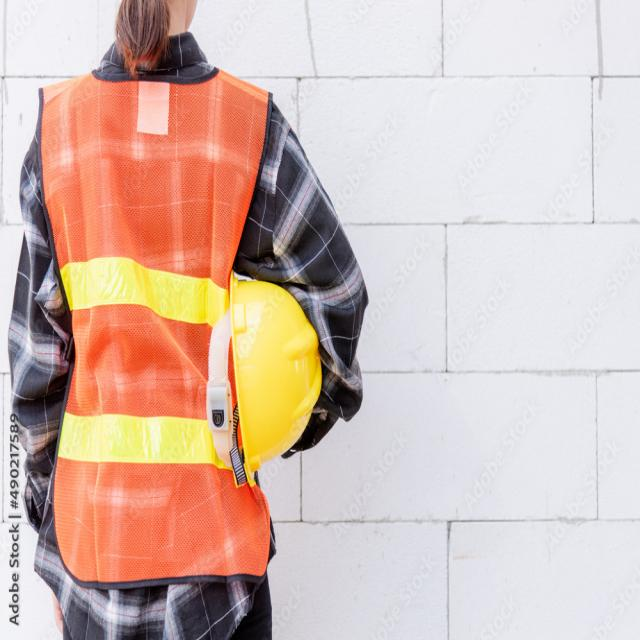helmet: (222, 262, 334, 478)
vest: (29, 45, 274, 577)
